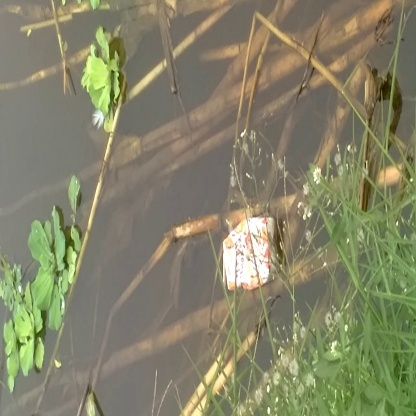milk-box: (217, 216, 282, 292)
